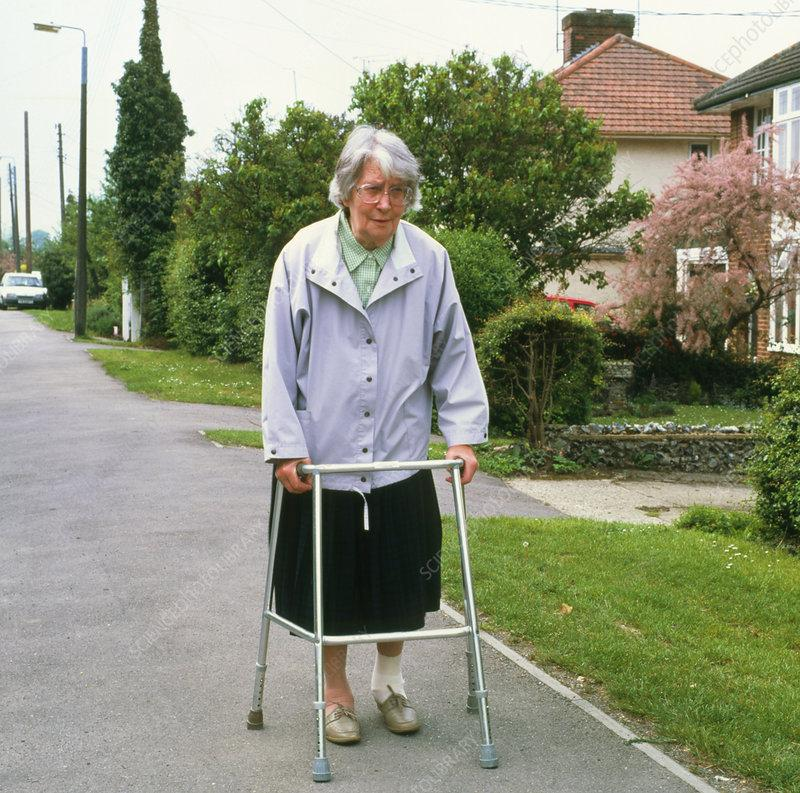walking_frame: (246, 124, 499, 782)
